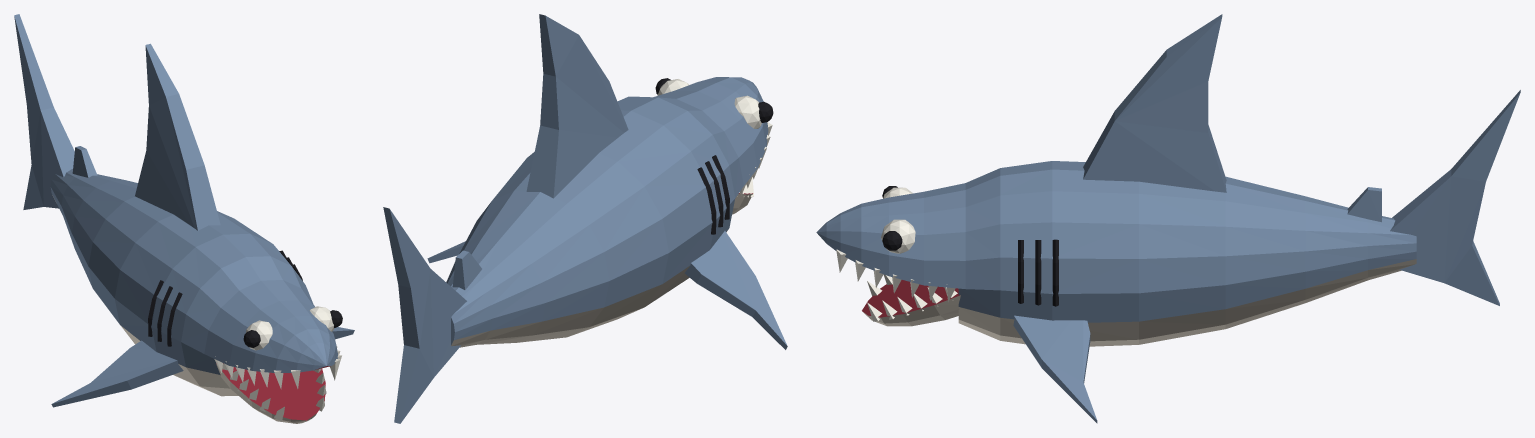
File: Shark.obj
The picture shows the model from 3 angles, left to right: view 1: azimuth 30°, elevation 25°; view 2: azimuth 150°, elevation 25°; view 3: azimuth 270°, elevation 25°; orthographic projection. The views are drawn at different scales.
Parts seen in each view (by area): view 1: Shark; view 2: Shark; view 3: Shark.
Part boxes in pixels (x1=…): Shark: x1=14, y1=14, x2=354, y2=423; Shark: x1=383, y1=14, x2=787, y2=423; Shark: x1=816, y1=14, x2=1520, y2=423.
Size of the model in its own units: 1.15 by 1.03 by 2.03.
